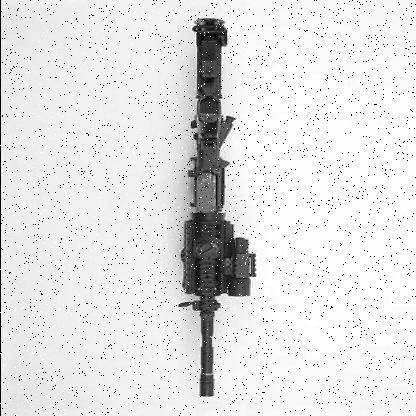rifle: (154, 16, 276, 400)
